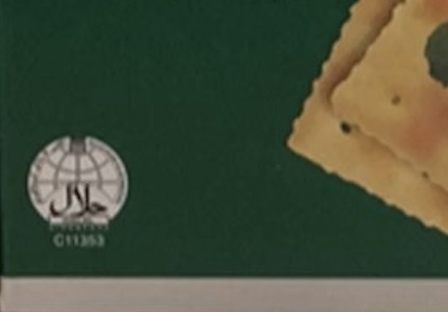halal: (42, 175, 113, 219)
